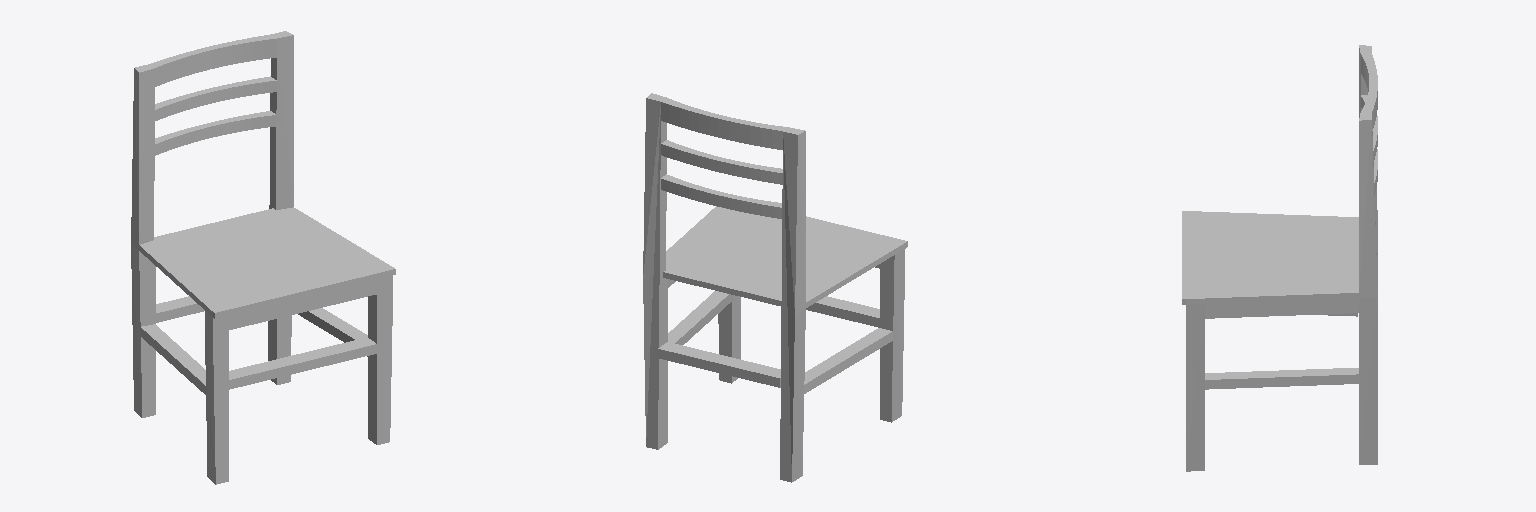
Rendered from silla_1.obj.
3 views of the same model, side by side, from view 1: azimuth 30°, elevation 25°; view 2: azimuth 150°, elevation 25°; view 3: azimuth 270°, elevation 25° (orthographic).
Bounding box in the file's own units: 0.495 × 0.905 × 0.4658.